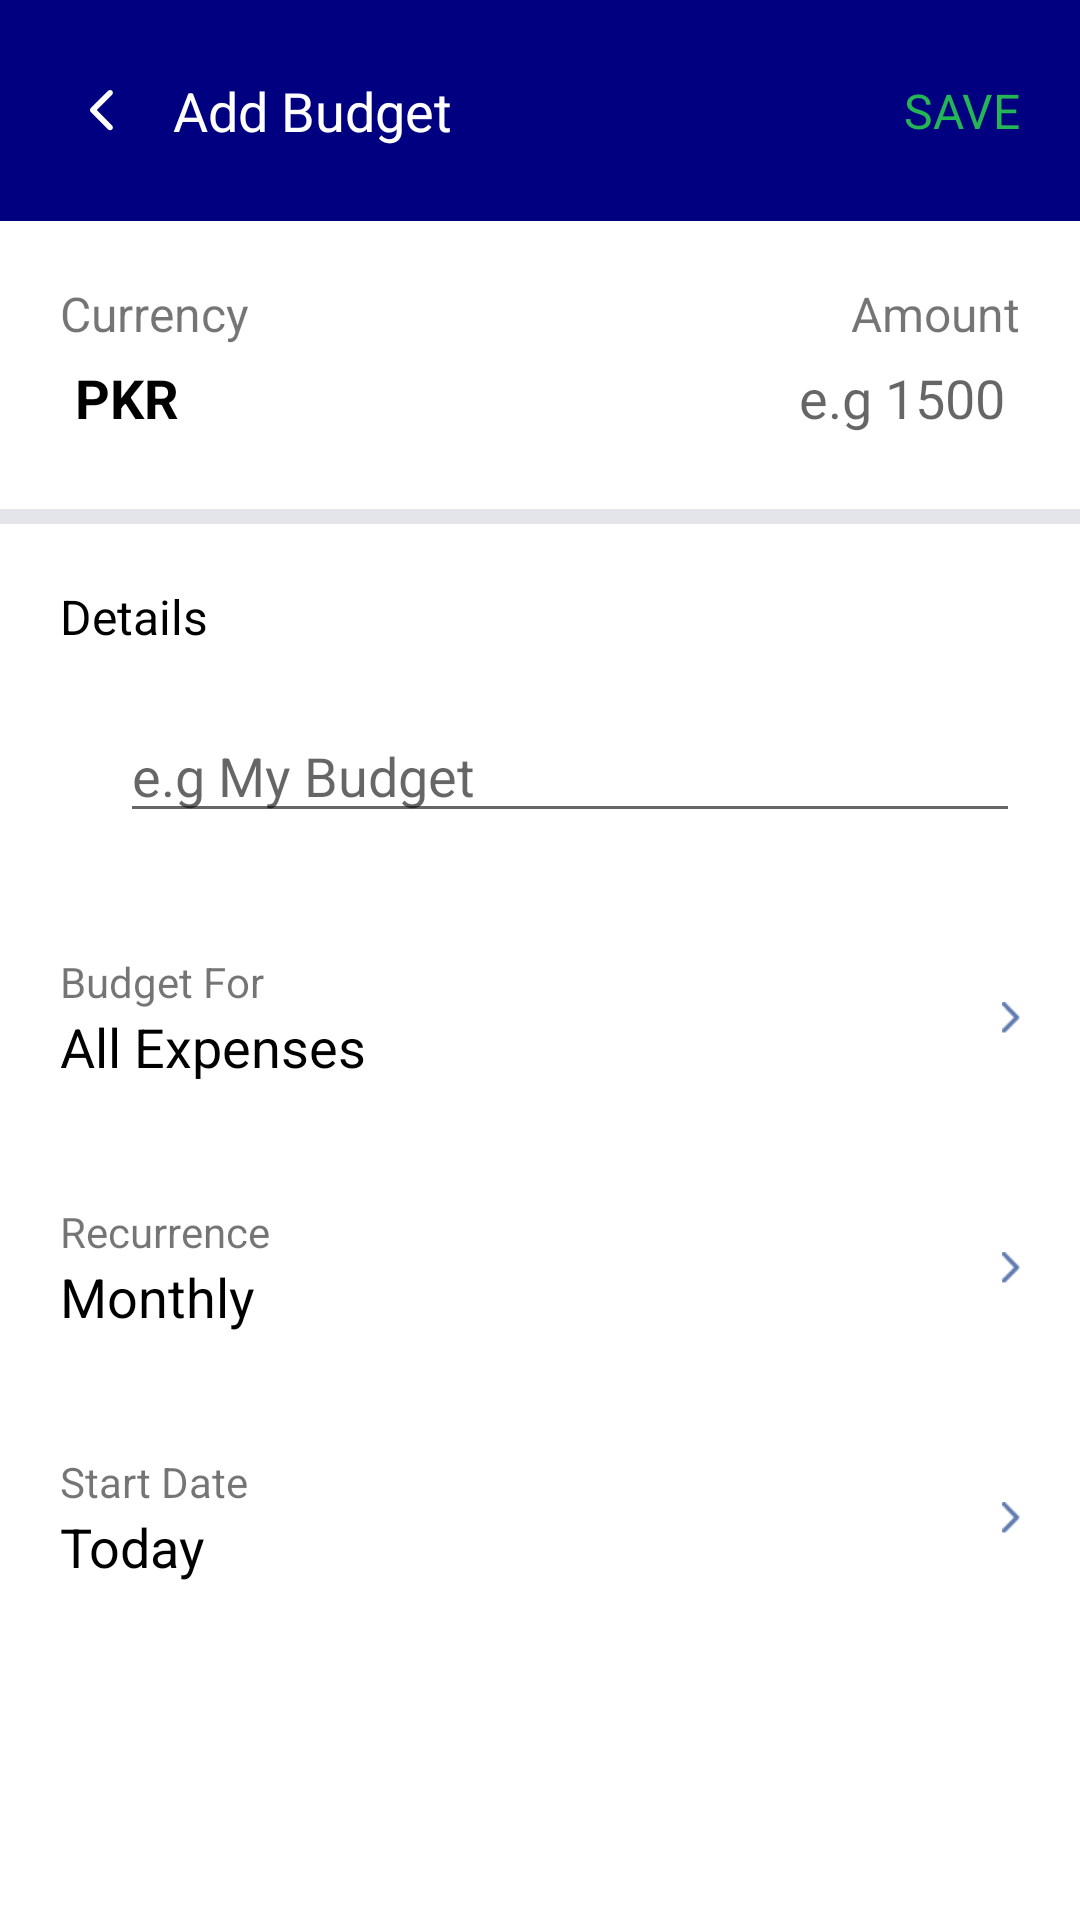

Screen size 1080×1920. Icon name, then its box in pixels as {"left": x1, "top": y1, "right": x2, "bottom": y2}:
back: {"left": 90, "top": 90, "right": 113, "bottom": 131}
